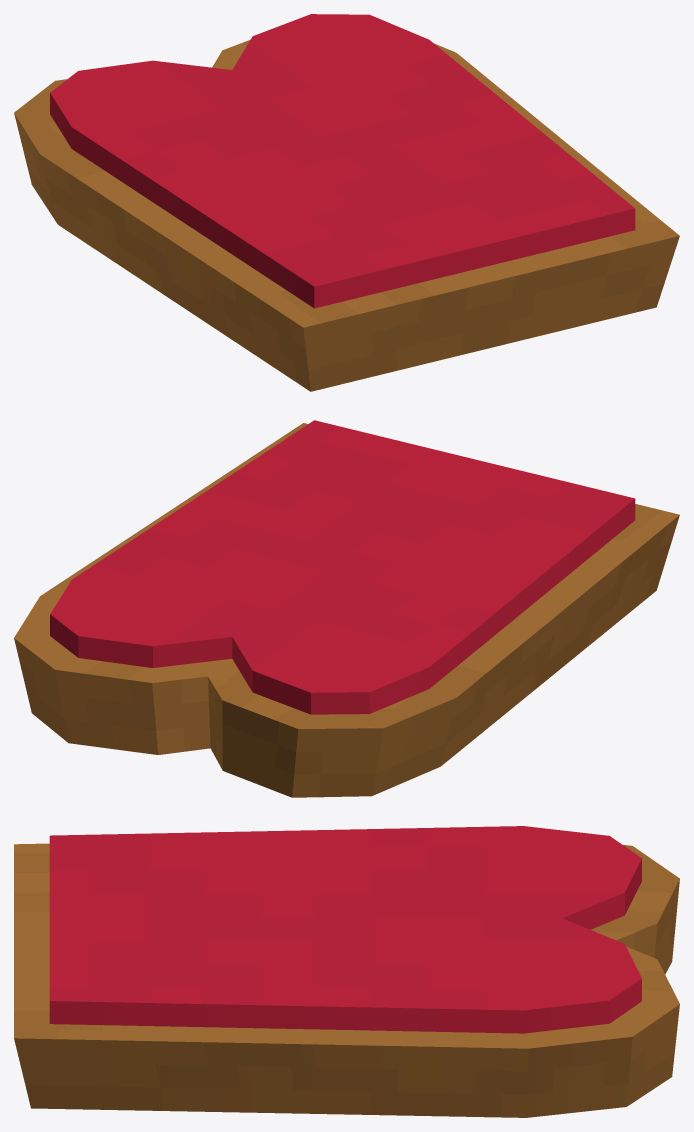
File: Brood.fbx
3 renders of one model, top to bottom at view 1: azimuth 30°, elevation 25°; view 2: azimuth 150°, elevation 25°; view 3: azimuth 270°, elevation 25°, orthographic. The views are drawn at different scales.
Visible parts, largest first — view 1: Brood; view 2: Brood; view 3: Brood.
Boxes of the visible parts, x1=… form: Brood: x1=14, y1=14, x2=679, y2=391; Brood: x1=14, y1=420, x2=679, y2=797; Brood: x1=14, y1=826, x2=679, y2=1117.
Bounding box in the file's own units: 0.2507 × 0.055 × 0.3286.
